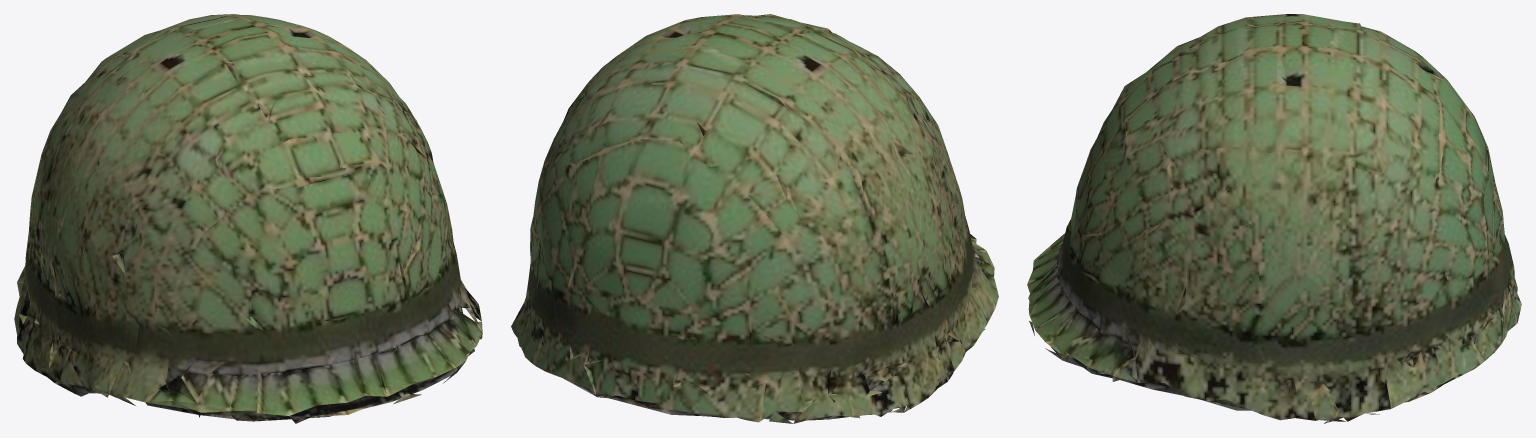
Rendered from military_helmet.glb.
3 renders of one model, left to right at view 1: azimuth 30°, elevation 25°; view 2: azimuth 150°, elevation 25°; view 3: azimuth 270°, elevation 25°, orthographic. The views are drawn at different scales.
Parts seen in each view (by area): view 1: military_helmet; view 2: military_helmet; view 3: military_helmet.
Part boxes in pixels (x1=…): military_helmet: x1=14, y1=14, x2=482, y2=423; military_helmet: x1=511, y1=14, x2=998, y2=423; military_helmet: x1=1027, y1=14, x2=1521, y2=423.
Bounding box in the file's own units: 2.4 × 1.83 × 2.69.
1 material, 1 textured.
